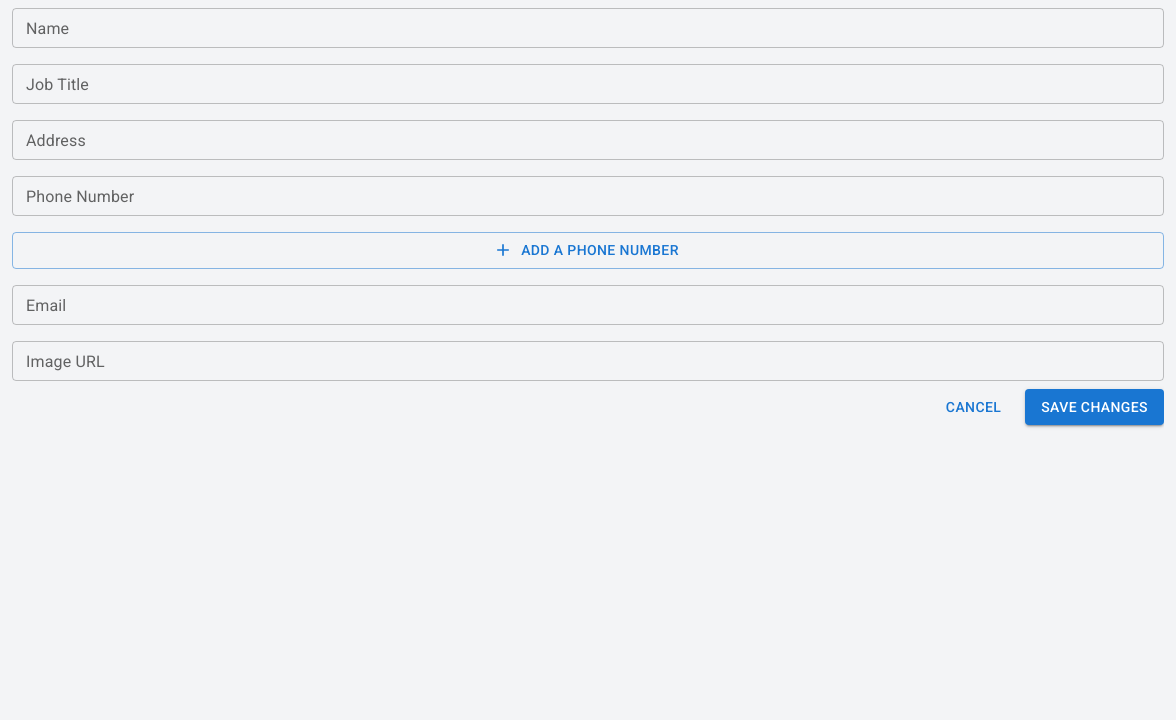
Test case: ContactForm › without initial values › has a maximum of 3 phone fields
Click the button "Add a Phone Number".
click(588, 250)  # box [12,232,1164,268]
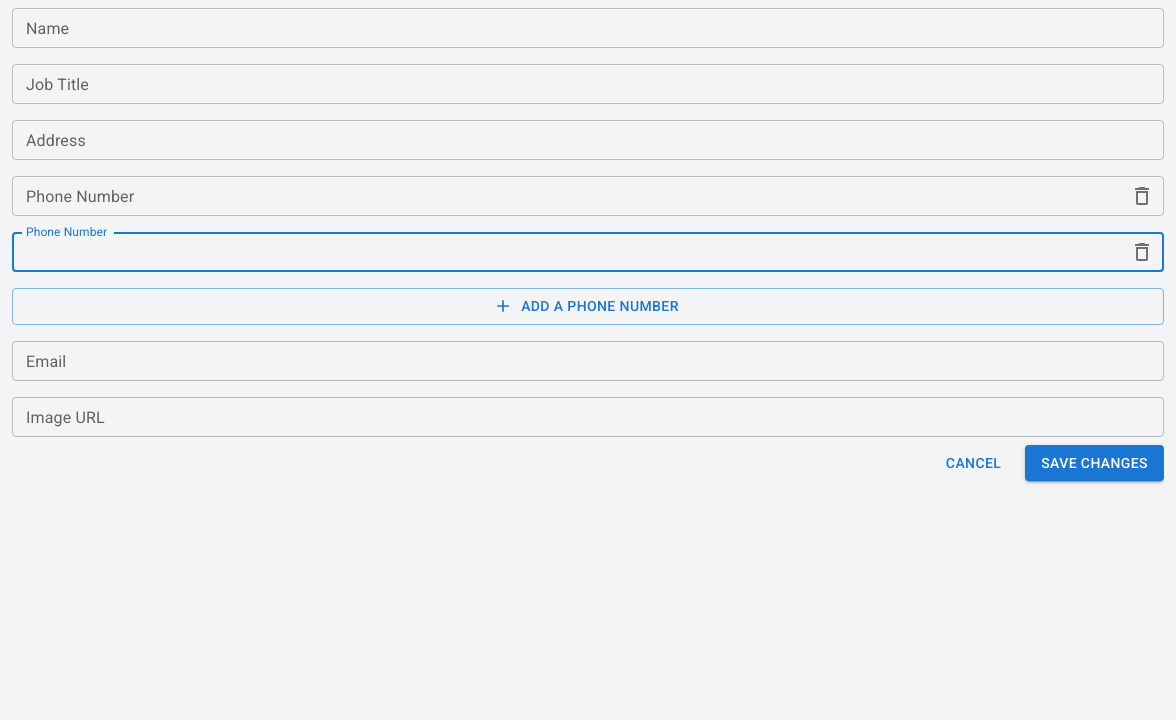
Click the button "Add a Phone Number".
click(588, 306)  # box [12,288,1164,324]
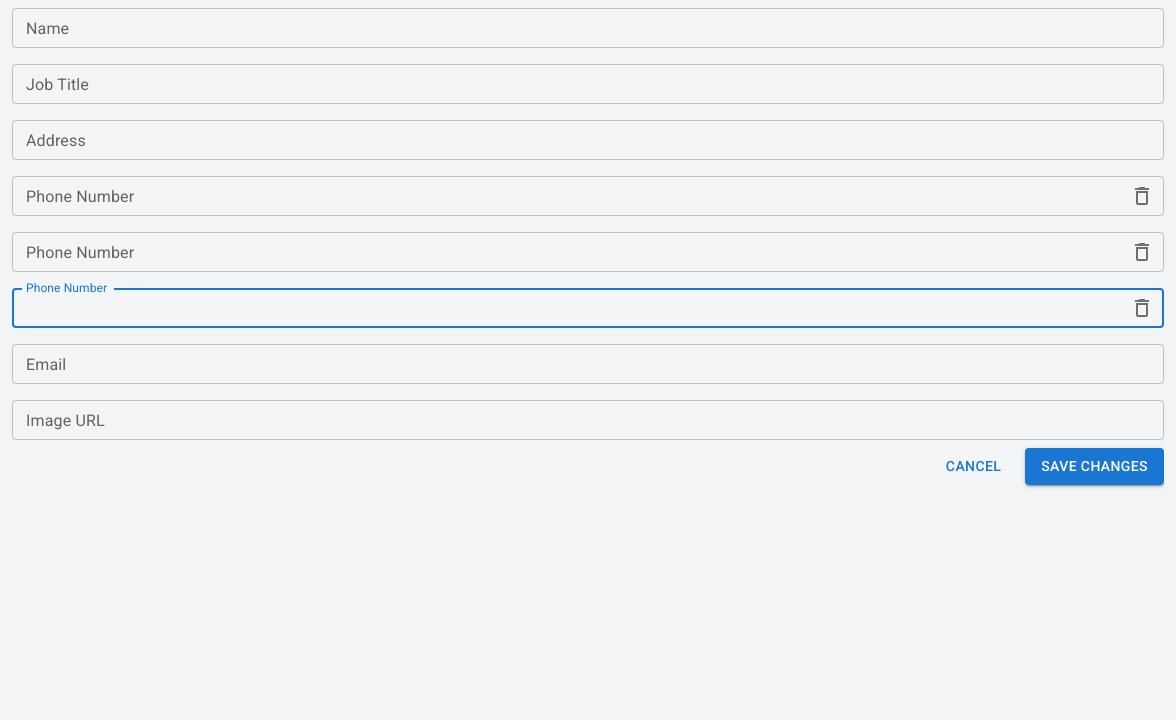
Check: the number of fields labelled "Phone Number" is 3, box [12,176,1114,216]; [12,232,1114,272]; [12,288,1114,328]
Check: the button "Add a Phone Number" is gone
